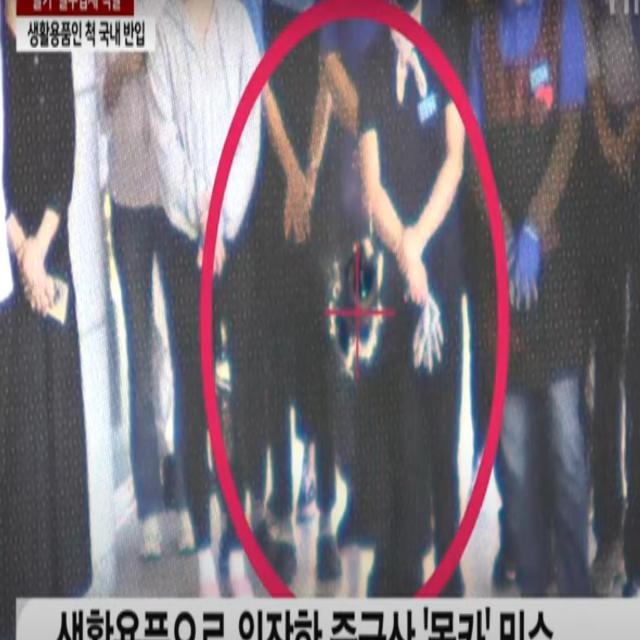hidden camera: (352, 258, 375, 305)
